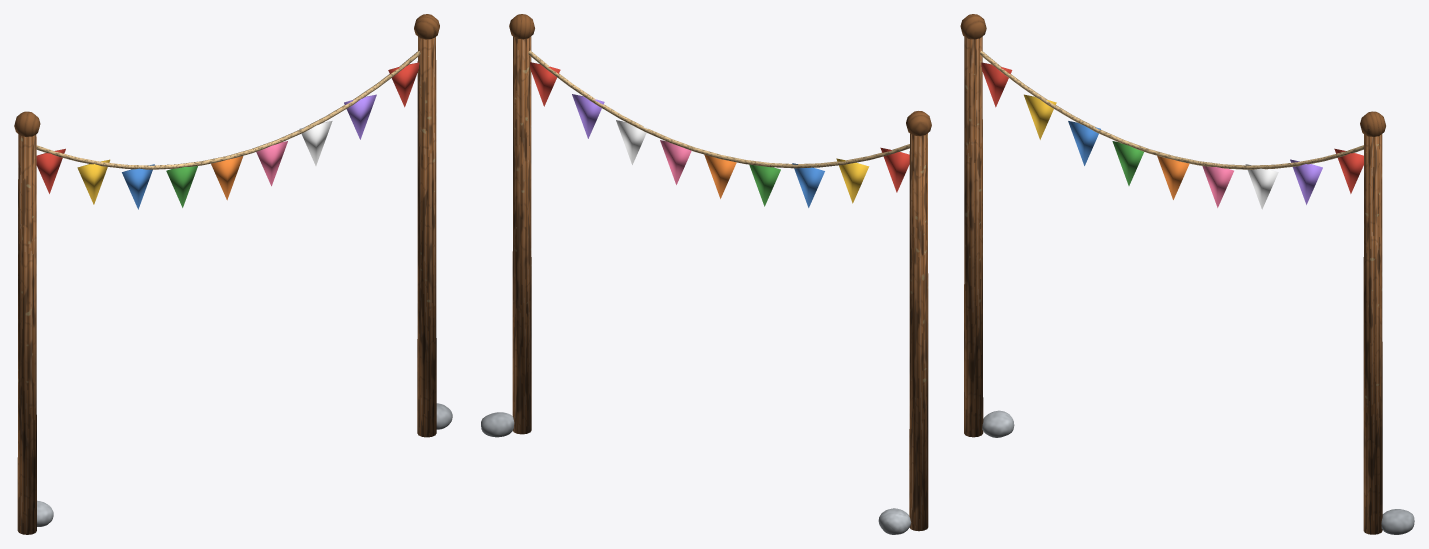
File: garland_flags.glb
3 renders of one model, left to right at view 1: azimuth 30°, elevation 25°; view 2: azimuth 150°, elevation 25°; view 3: azimuth 330°, elevation 25°, orthographic.
Parts seen in each view (by area): view 1: GarlandFlags; view 2: GarlandFlags; view 3: GarlandFlags.
Part boxes in pixels (box(x1,y1,x2,y2)): GarlandFlags: box(14, 14, 452, 534); GarlandFlags: box(481, 14, 931, 534); GarlandFlags: box(960, 14, 1414, 534).
Size of the model in its own units: 2.66 by 2.42 by 0.2395.
1 material, 1 textured.
